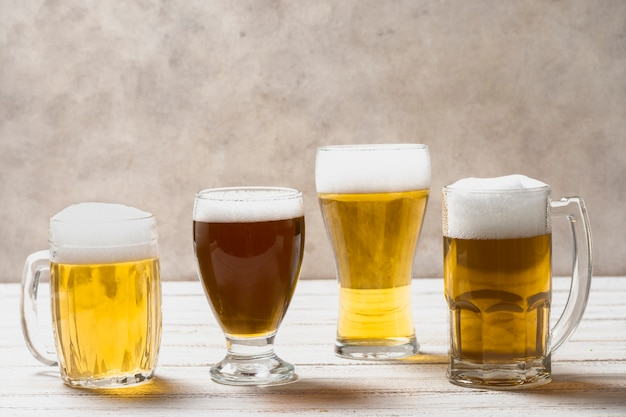alcohol: (443, 175, 595, 389), (19, 199, 160, 390), (316, 145, 433, 359), (190, 186, 305, 386)
